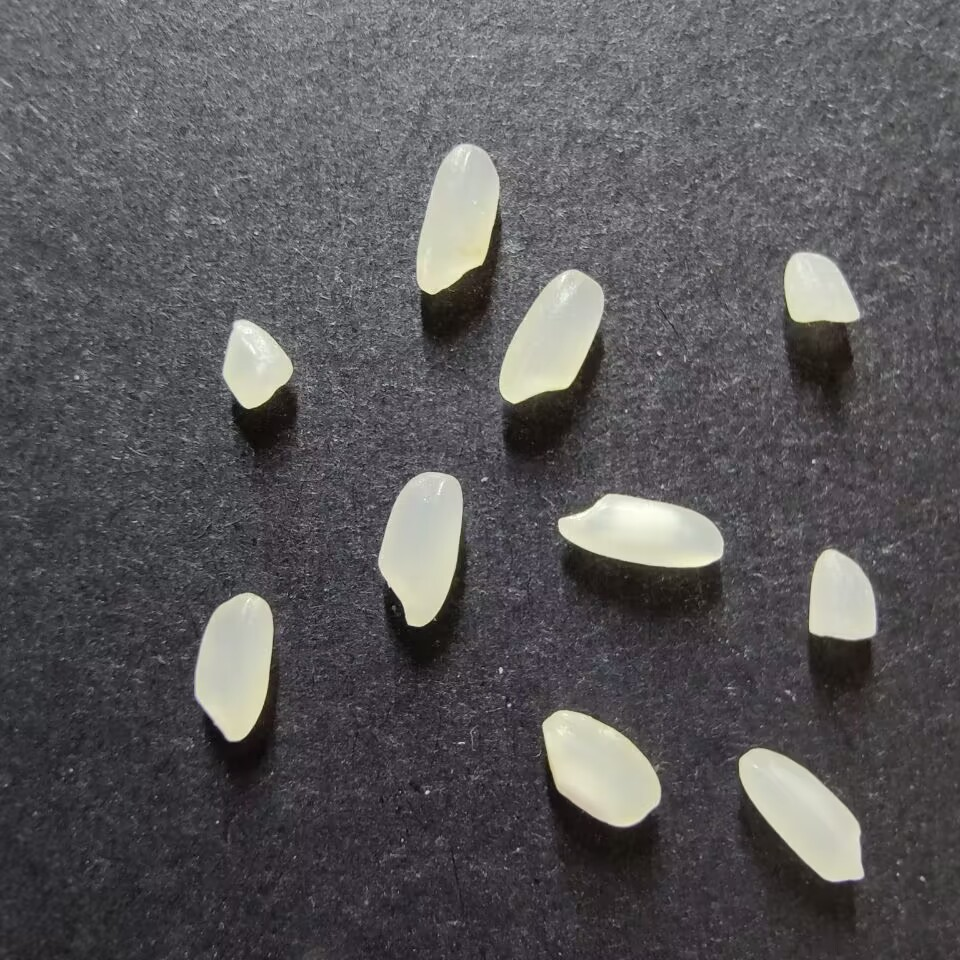broken: (221, 319, 293, 410), (807, 548, 876, 640), (783, 251, 859, 323)
rice: (737, 747, 865, 883), (496, 269, 604, 404), (541, 709, 661, 828), (377, 470, 462, 627), (415, 143, 500, 294), (556, 493, 723, 569), (192, 592, 273, 743)
